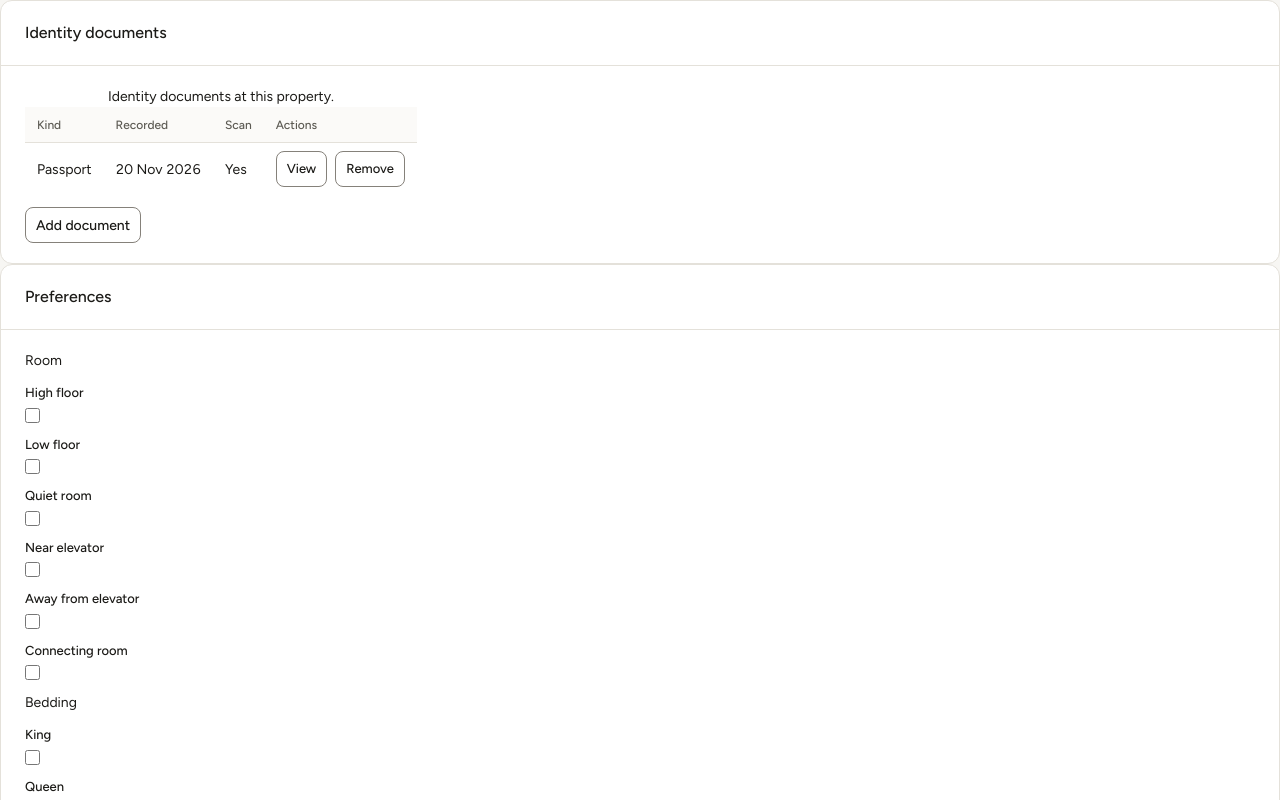
guest identity panels › views an image scan and revokes the blob URL on close
Click the button "View" at (301, 169), box [276,151,327,187]
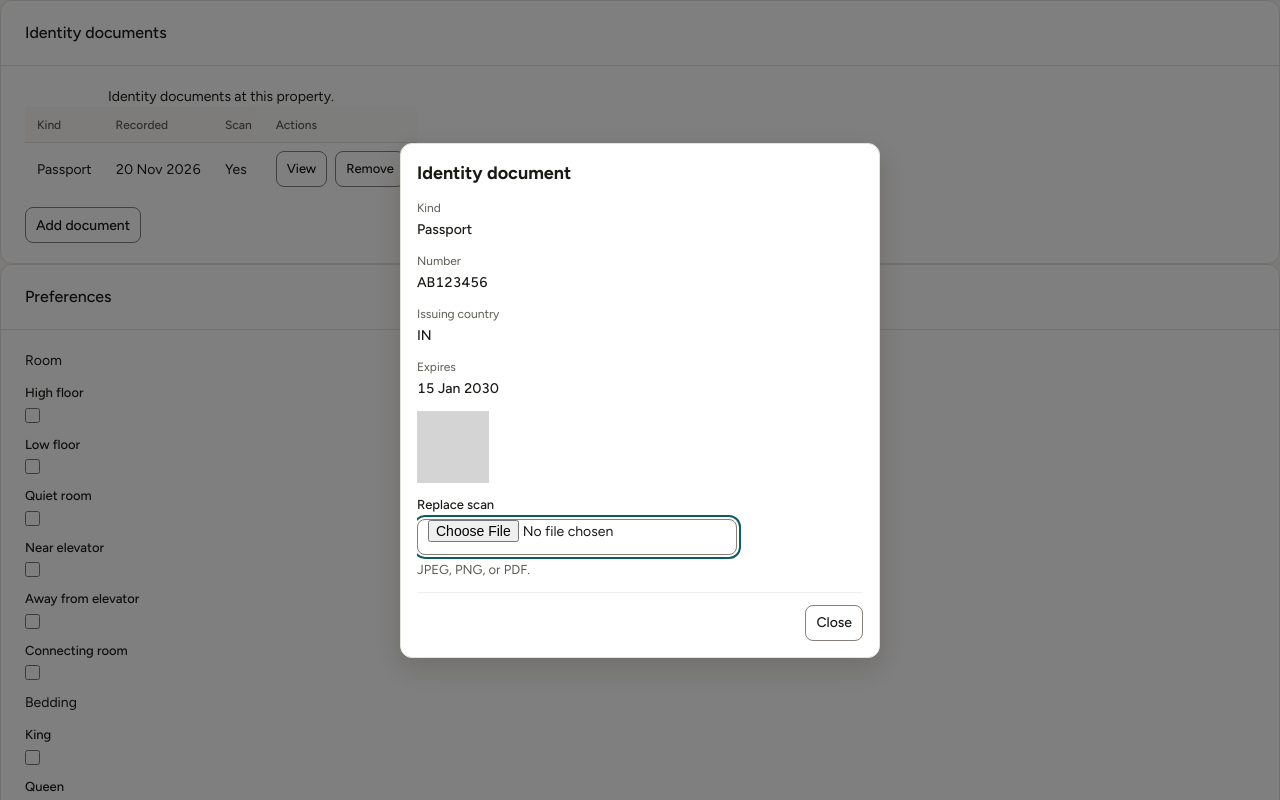
Now the text "15 Jan 2030" is shown, box [417,380,499,396]
Press Escape in the dialog with test id "view-id-document"
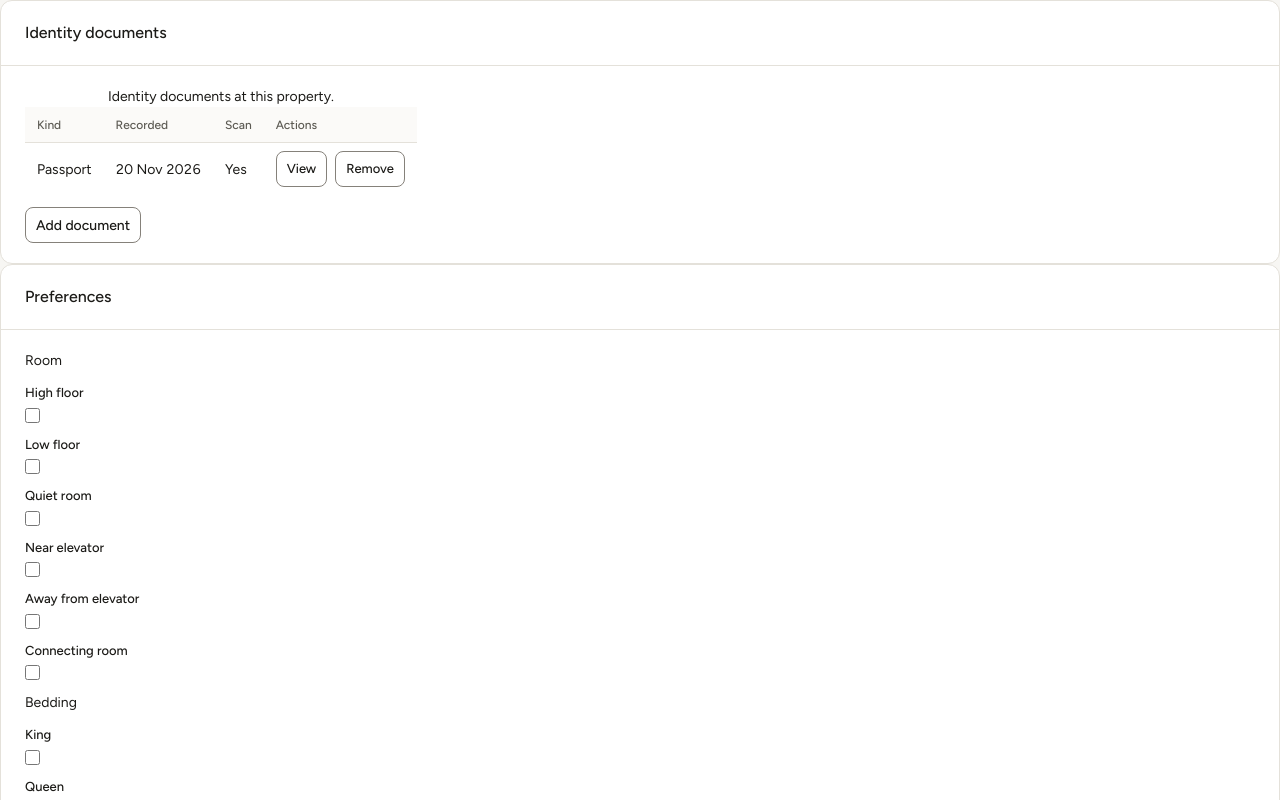
Now the dialog with test id "view-id-document" is gone
